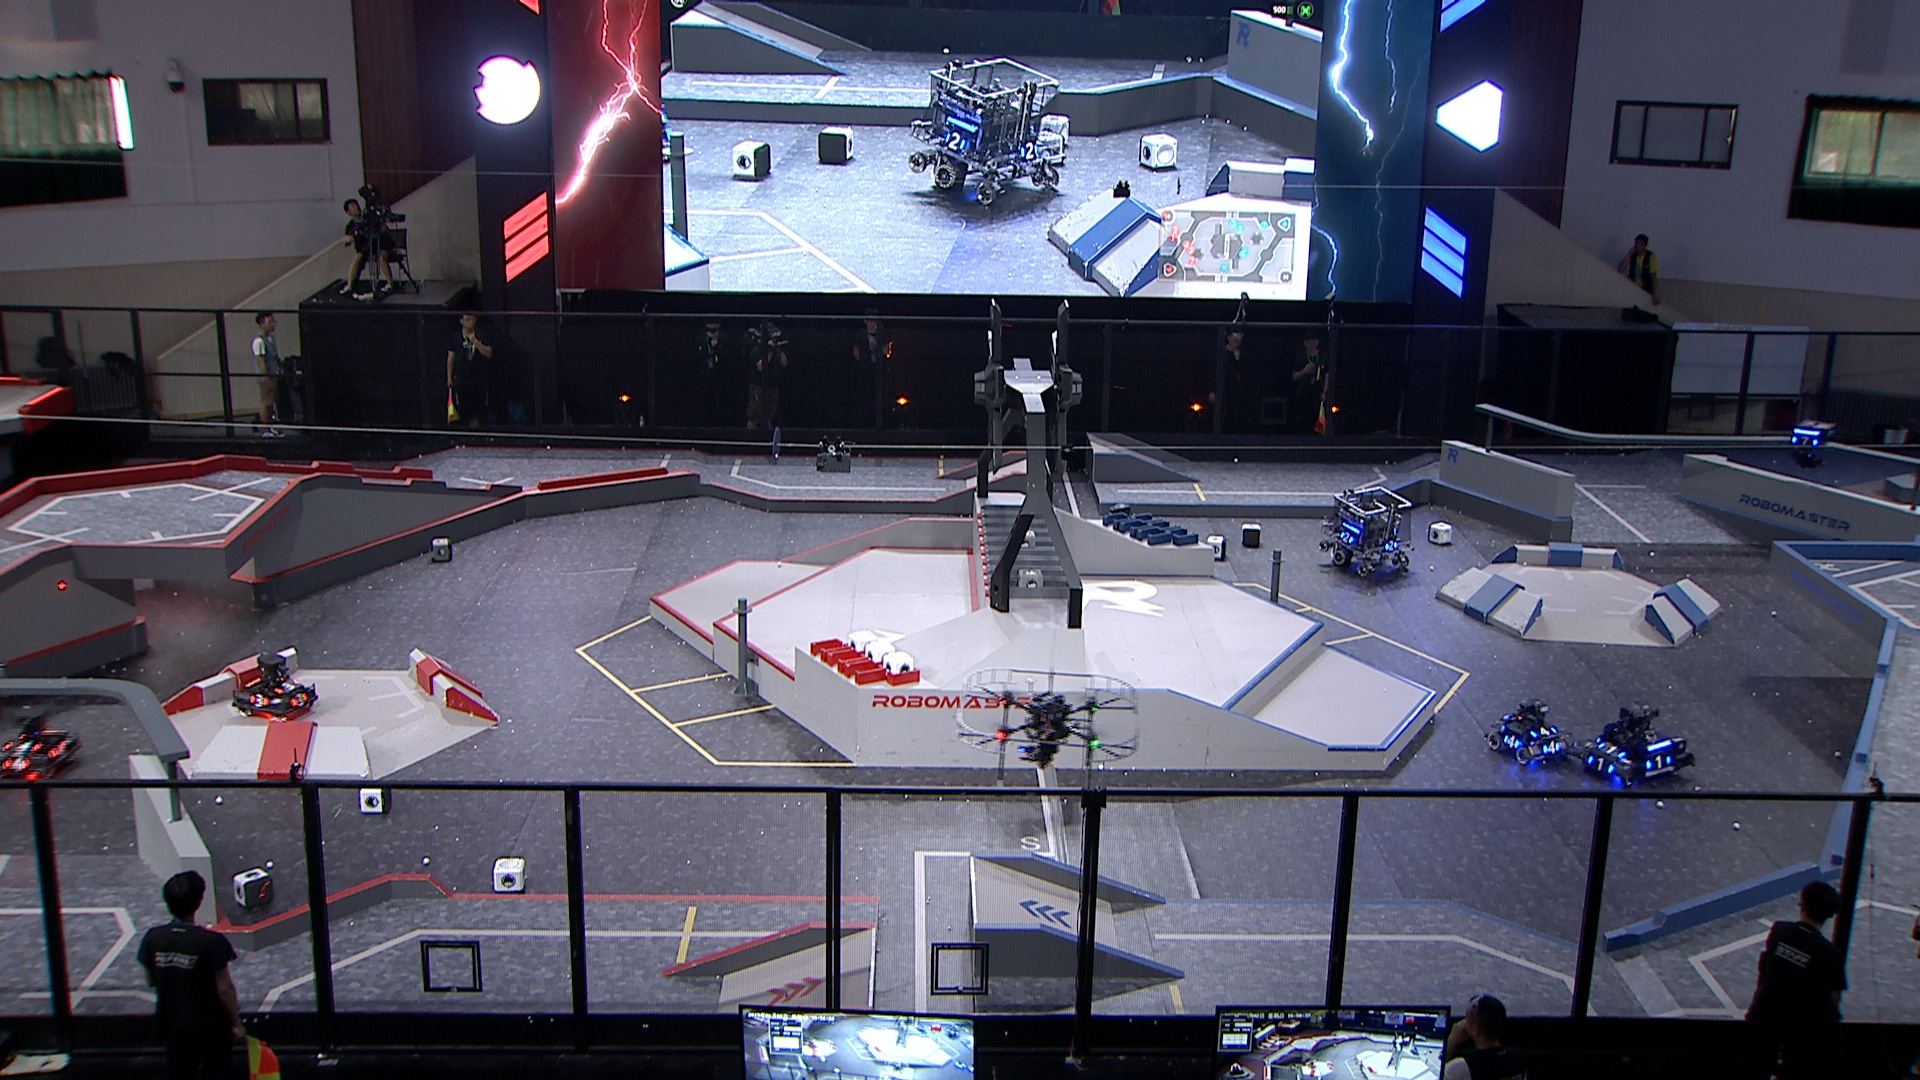armor: (1584, 752, 1618, 777), (1596, 741, 1626, 760), (1, 740, 47, 752), (1644, 754, 1673, 770), (272, 678, 301, 694), (1788, 434, 1821, 447), (3, 756, 32, 770), (47, 741, 69, 761), (289, 690, 310, 709), (1501, 733, 1520, 752), (248, 694, 272, 708), (1335, 531, 1357, 546), (1528, 727, 1557, 737), (1382, 541, 1400, 555), (1542, 741, 1560, 756)
car: (1575, 698, 1698, 793), (1315, 484, 1416, 578), (231, 650, 319, 723), (1485, 698, 1572, 765)
ignore: (906, 57, 1068, 211)
watcher: (1782, 417, 1832, 465)
